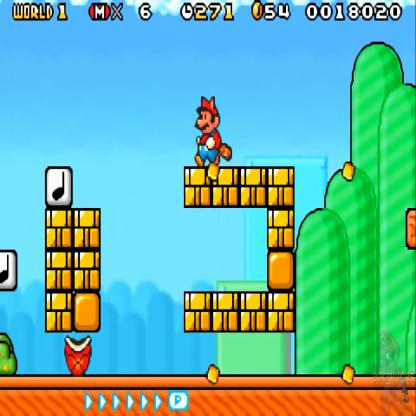Mario: (195, 93, 232, 167)
caparazon: (59, 330, 94, 384)
moneda: (251, 0, 265, 26)
